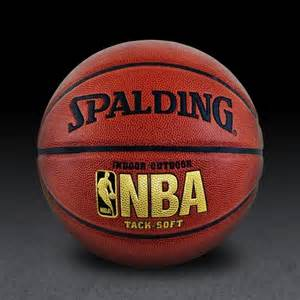basketball: (32, 39, 267, 275)
